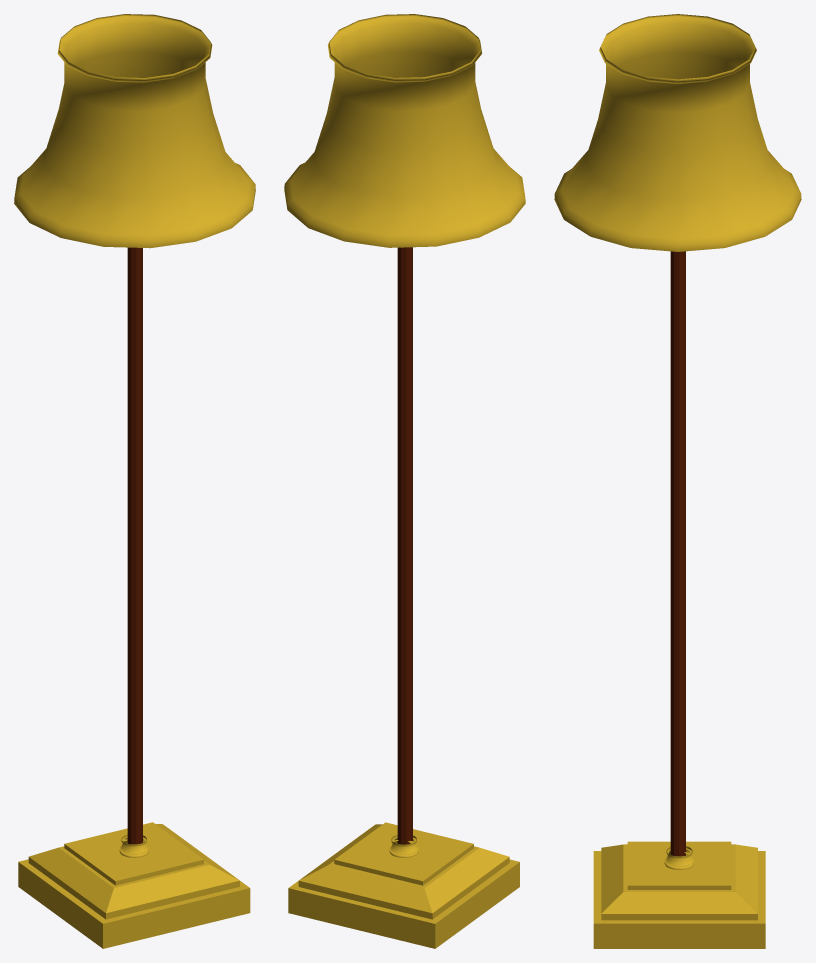
The model's file is Lamp.fbx.
3 views of the same model, side by side, from view 1: azimuth 30°, elevation 25°; view 2: azimuth 150°, elevation 25°; view 3: azimuth 270°, elevation 25° (orthographic).
Visible parts, largest first — view 1: defaultMaterial; view 2: defaultMaterial; view 3: defaultMaterial.
Boxes of the visible parts, <box> form: defaultMaterial: <box>14,14,255,948</box>; defaultMaterial: <box>284,14,525,948</box>; defaultMaterial: <box>554,14,801,948</box>.
Bounding box in the file's own units: 50.35 × 195 × 50.35.
